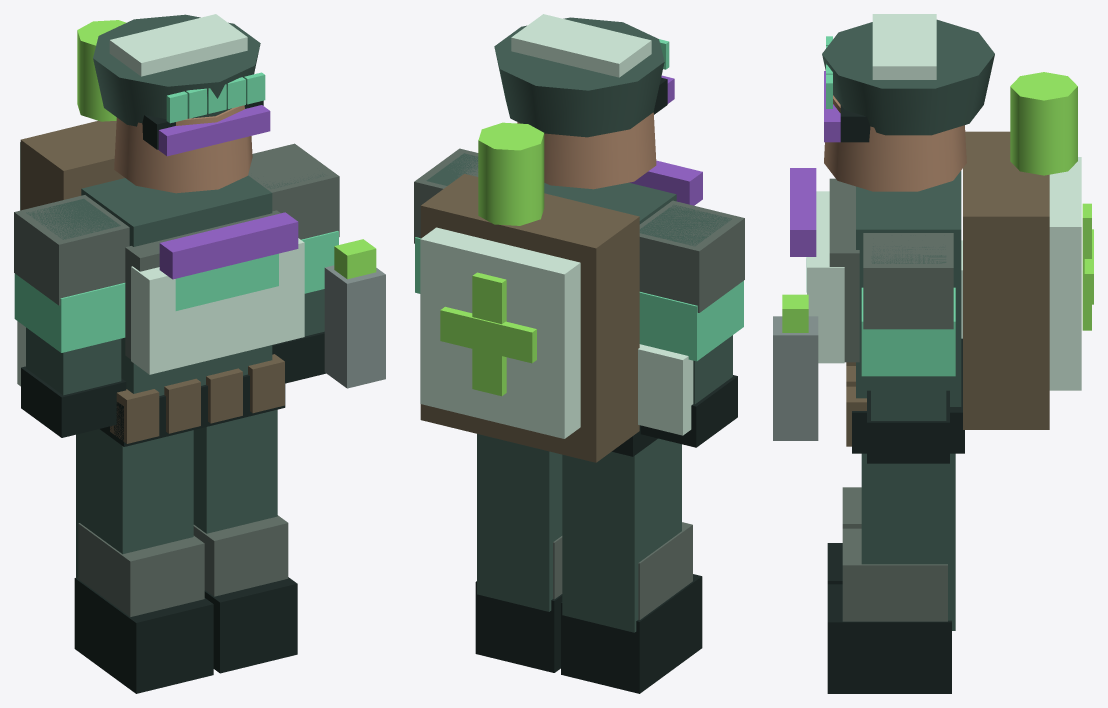
File: medic_l05.glb
3 renders of one model, left to right at view 1: azimuth 30°, elevation 25°; view 2: azimuth 150°, elevation 25°; view 3: azimuth 270°, elevation 25°, orthographic.
Parts seen in each view (by area): view 1: trouser (×2), boot (×2), shoulder_plate (×2), knee_plate (×2), reinforced_vest, body, helmet, rank_stripe (×2), sleeve (×2), aid_injector, face, field_pack (+16 smaller); view 2: trouser (×2), field_pack, medical_pack, boot (×2), helmet, shoulder_plate (×2), elite_aid_beacon, face, protective_hood, rank_stripe, sleeve (×2), triage_satchel (+7 smaller); view 3: field_pack, helmet, boot (×2), trouser, shoulder_plate, knee_plate (×2), medical_pack, body, face, elite_aid_beacon, aid_injector, rank_stripe (+13 smaller).
Part boxes in pixels (x1,y1,x2,y2): trouser (×2): (76, 409, 277, 577); boot (×2): (74, 577, 297, 693); shoulder_plate (×2): (14, 143, 339, 305); knee_plate (×2): (78, 515, 288, 616); reinforced_vest: (131, 238, 304, 374); body: (81, 175, 272, 395); helmet: (93, 14, 260, 126); rank_stripe (×2): (14, 231, 338, 352); sleeve (×2): (26, 174, 324, 395); aid_injector: (324, 265, 385, 388); face: (114, 105, 252, 193); field_pack: (20, 121, 124, 210); trouser (×2): (477, 434, 681, 632); field_pack: (420, 174, 639, 462); medical_pack: (420, 227, 580, 438); boot (×2): (475, 574, 702, 693); helmet: (494, 17, 664, 137); shoulder_plate (×2): (414, 148, 744, 312); elite_aid_beacon: (478, 122, 544, 225); face: (517, 112, 656, 189); protective_hood: (511, 14, 651, 77); rank_stripe: (639, 281, 743, 361); sleeve (×2): (426, 153, 732, 404); triage_satchel: (638, 344, 693, 435); field_pack: (963, 131, 1049, 429); helmet: (822, 19, 994, 135); boot (×2): (827, 543, 951, 693); trouser: (861, 453, 955, 630); shoulder_plate: (863, 233, 953, 329); knee_plate (×2): (842, 487, 947, 621); medical_pack: (1049, 157, 1081, 390); body: (856, 171, 961, 406); face: (824, 95, 966, 191); elite_aid_beacon: (1010, 72, 1077, 175); aid_injector: (773, 316, 818, 440); rank_stripe: (861, 287, 955, 376).
Bounding box in the file's own units: 0.875 × 1.8 × 0.8525.
